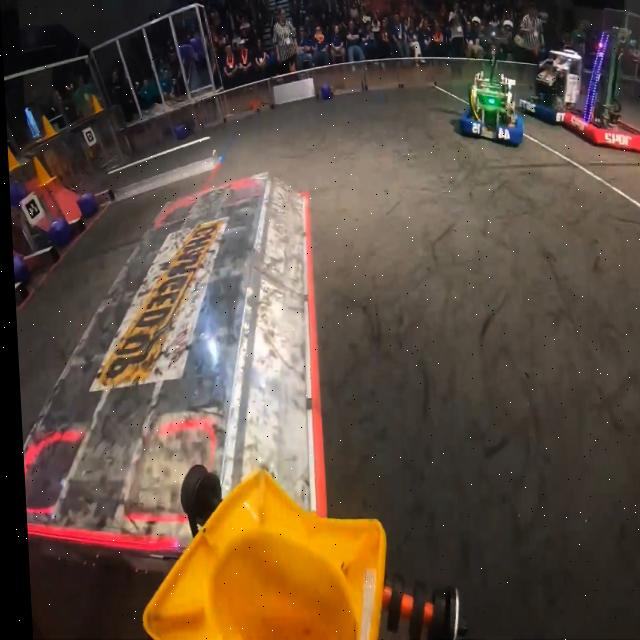robot: (559, 30, 640, 156), (454, 50, 527, 146), (515, 47, 583, 124)
